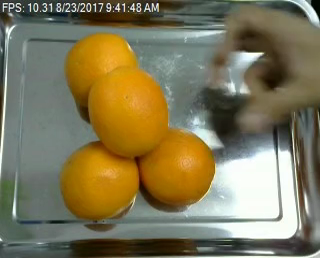Orange: (87, 66, 169, 158), (59, 141, 138, 217), (139, 127, 215, 206), (65, 33, 137, 113)
